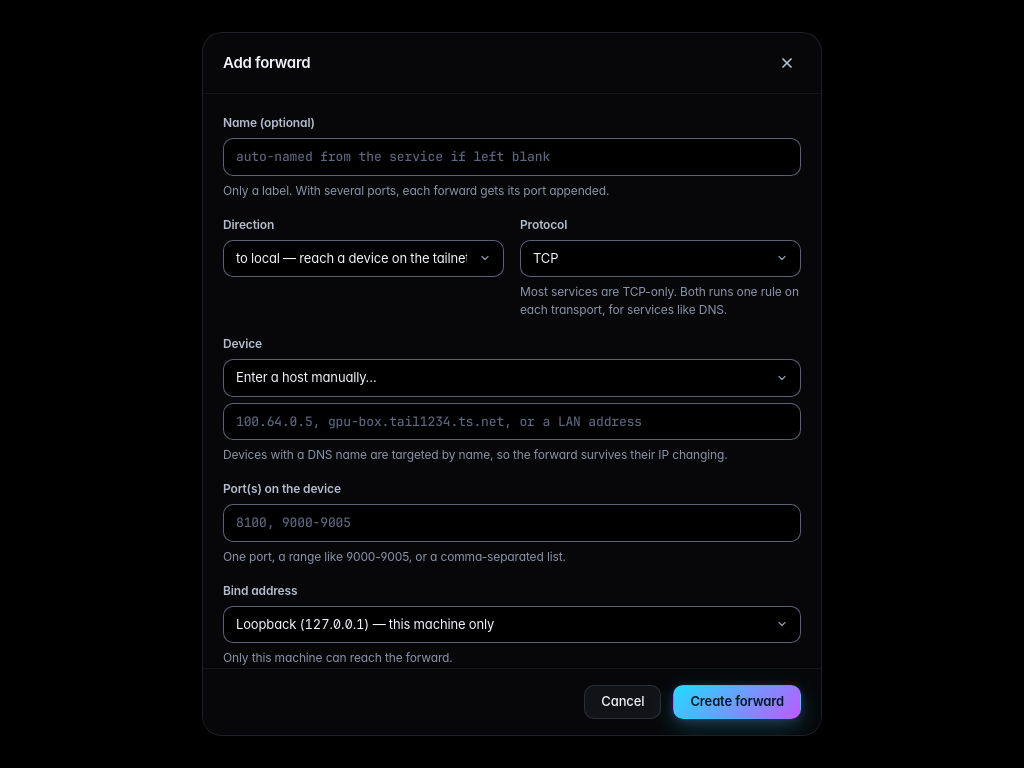
Scenario: what the dialog refuses to send › refuses a port outside the valid range
Step 1. Type "gpu-box" into the field named "Host" → x=512, y=421, box left=223, top=402, right=801, bottom=440
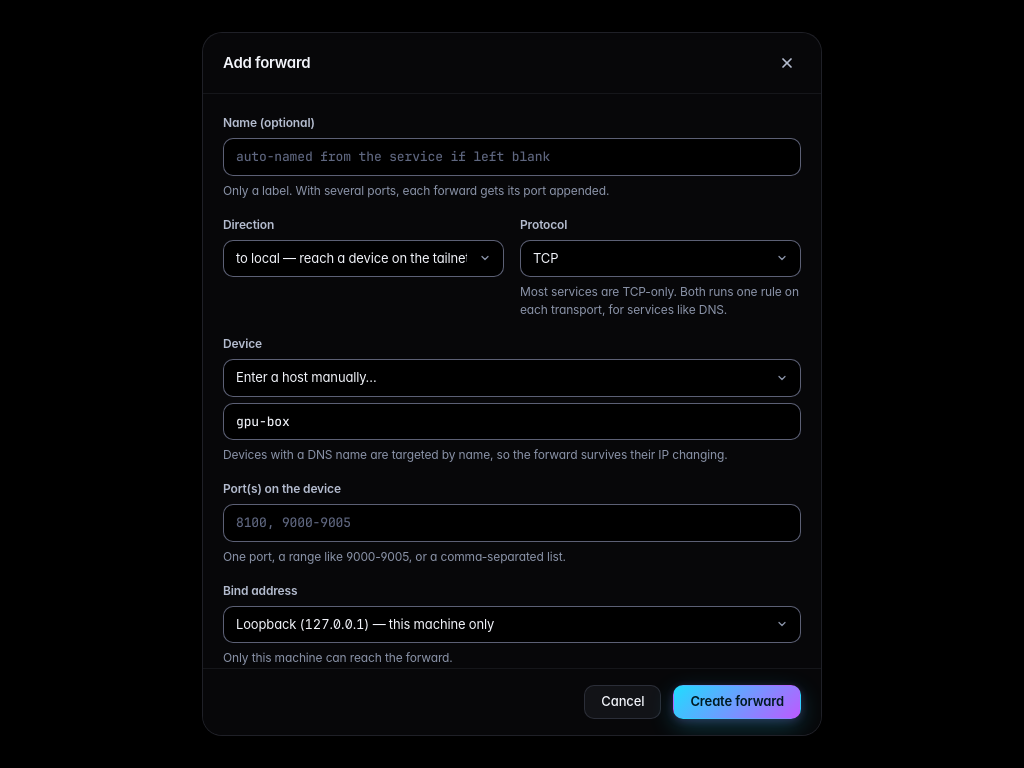
Step 2. Type "70000" into the field labelled "Port(s) on the device" → x=512, y=523, box left=223, top=504, right=801, bottom=542
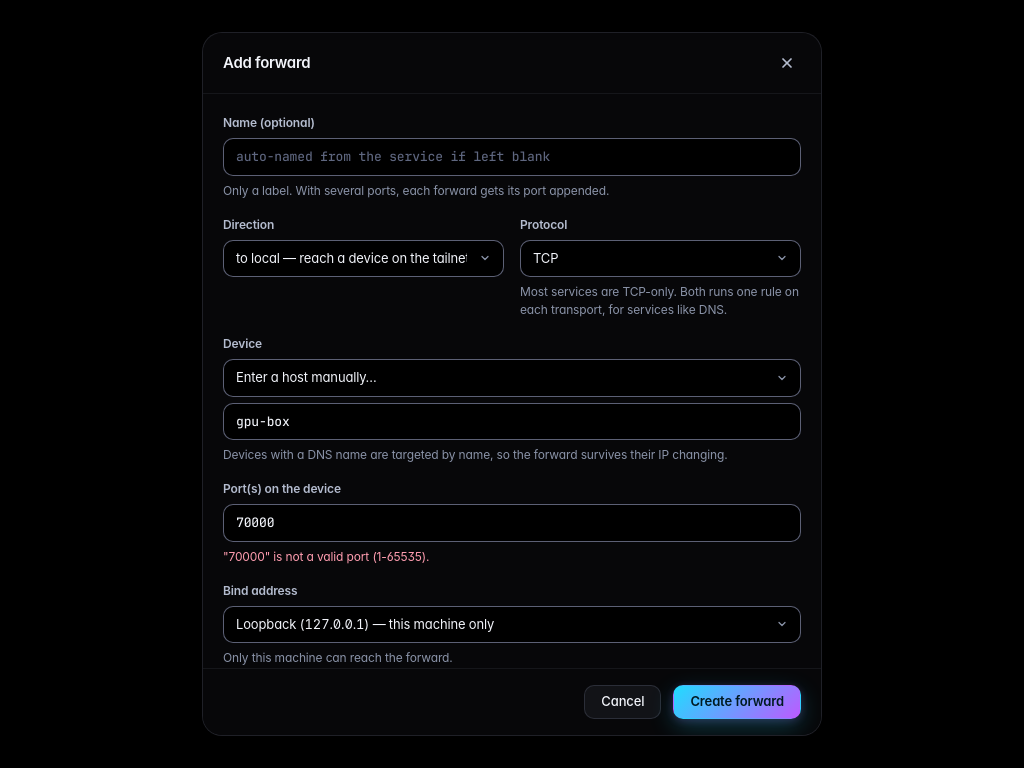
Step 3. Click the button "Create forward" → x=737, y=702, box left=673, top=686, right=801, bottom=719
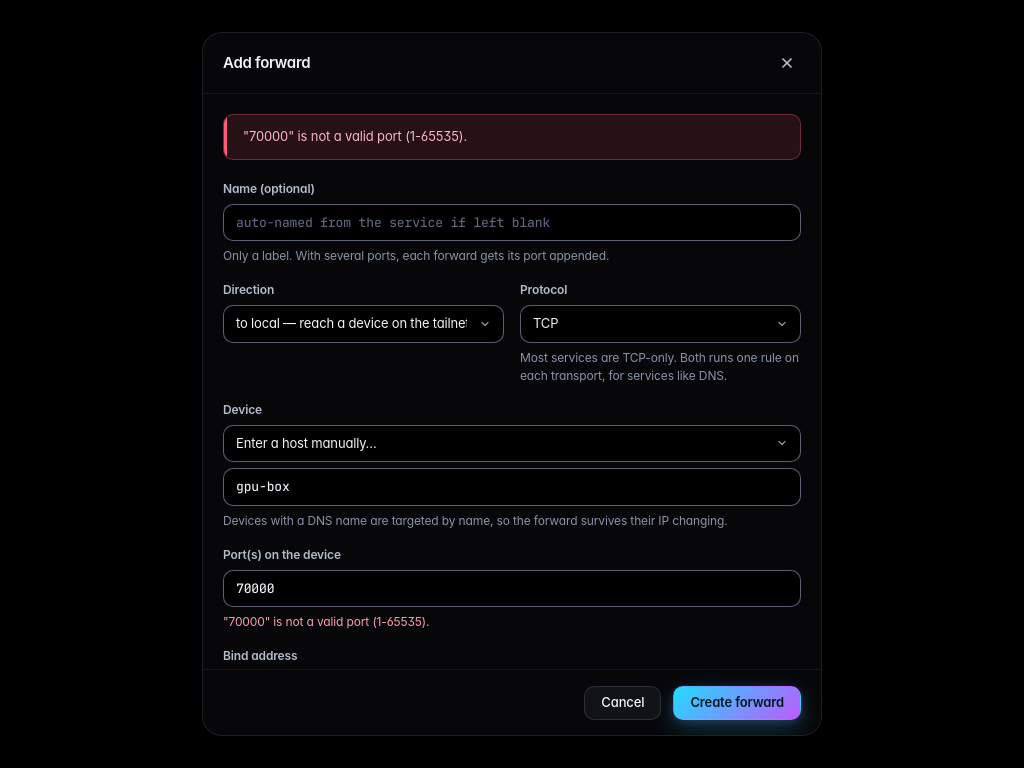
Result: the text with class "error" reads "\"70000\" is not a valid port (1-65535)." at left=243, top=128, right=467, bottom=144
